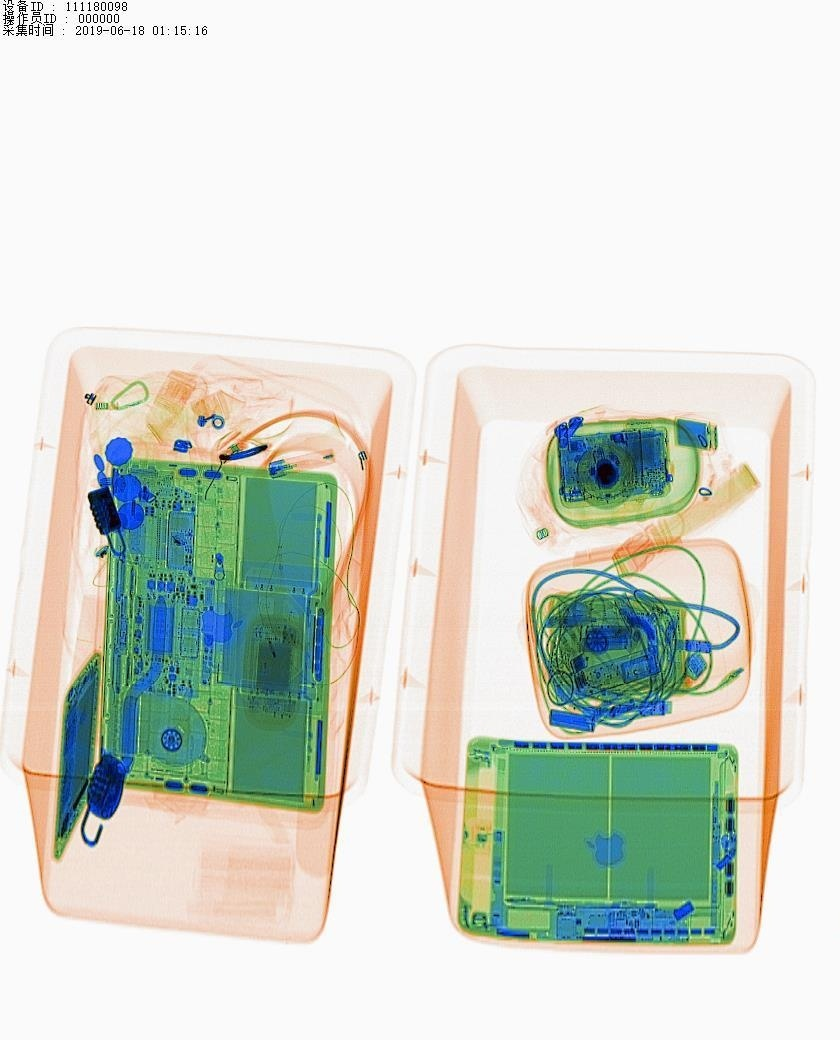NonmetallicFire: (267, 438, 362, 488)
